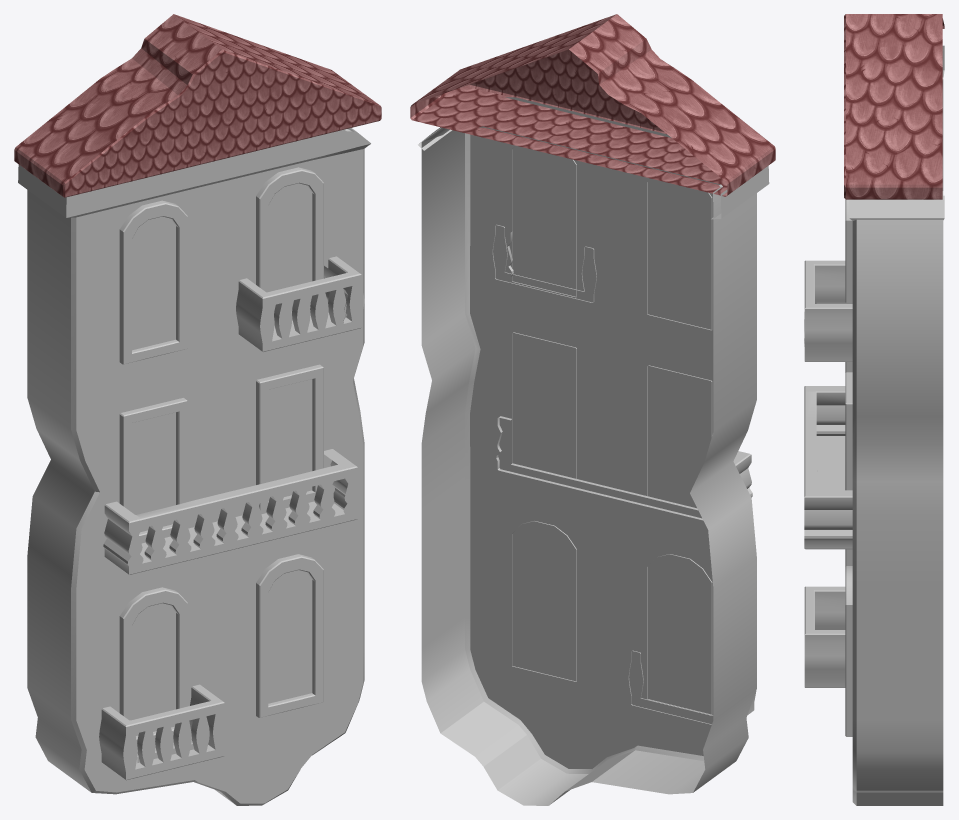
Rendered from LongHouse002.FBX.
The picture shows the model from 3 angles, left to right: view 1: azimuth 30°, elevation 25°; view 2: azimuth 150°, elevation 25°; view 3: azimuth 270°, elevation 25°; orthographic projection.
Visible parts, largest first — view 1: House001; view 2: House001; view 3: House001.
Boxes of the visible parts, left/top/right/bottom form: House001: left=14, top=14, right=381, bottom=805; House001: left=410, top=14, right=775, bottom=805; House001: left=804, top=14, right=944, bottom=805.
Size of the model in its own units: 757 by 1749 by 291.
